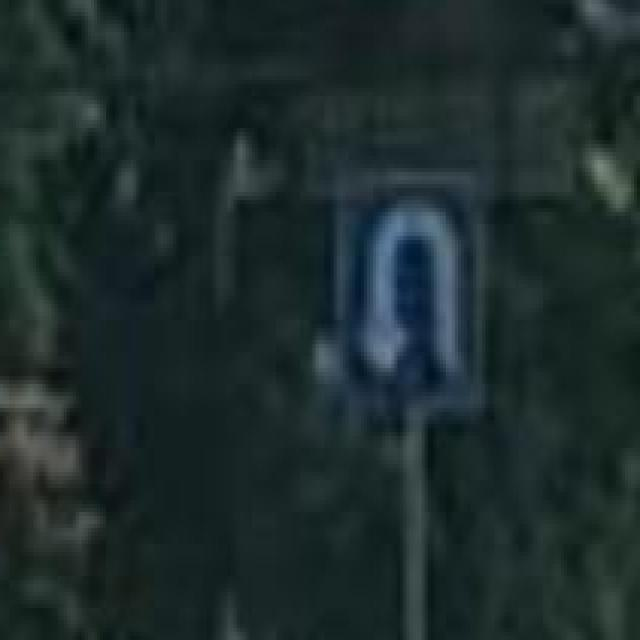U-turn: (344, 173, 476, 405)
